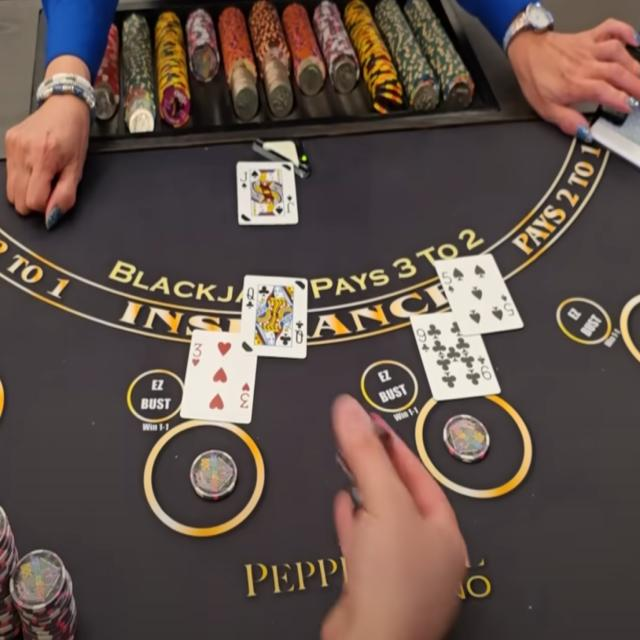3: (192, 339, 204, 358)
5: (440, 267, 453, 284)
9: (414, 325, 428, 343)
J: (238, 167, 248, 182)
Q: (245, 285, 256, 302)
